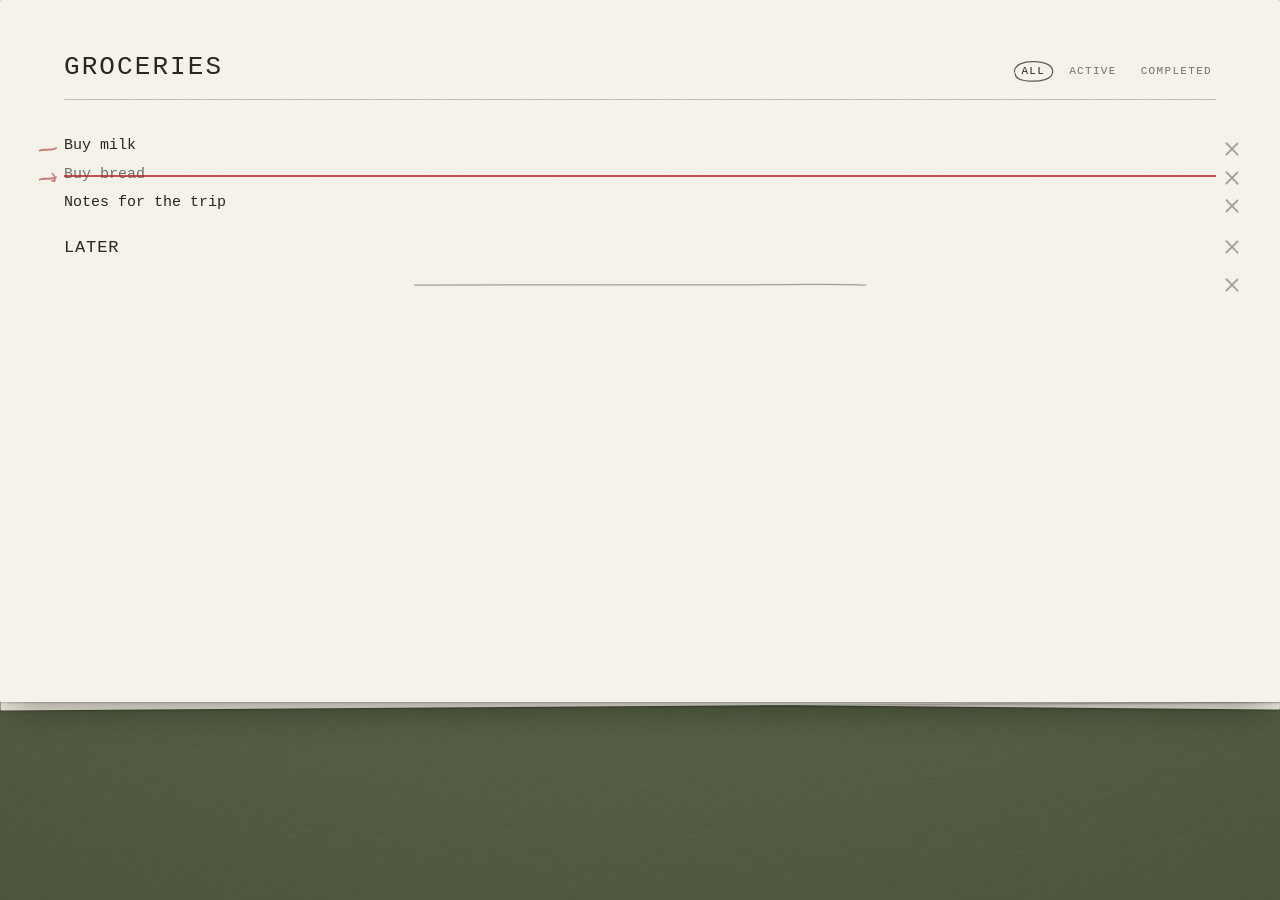
Scenario: Sheet › filters only task lines; notes and headings stay on the sheet
Click the tab "Active".
click(1093, 71)  # box [1065,61,1121,82]
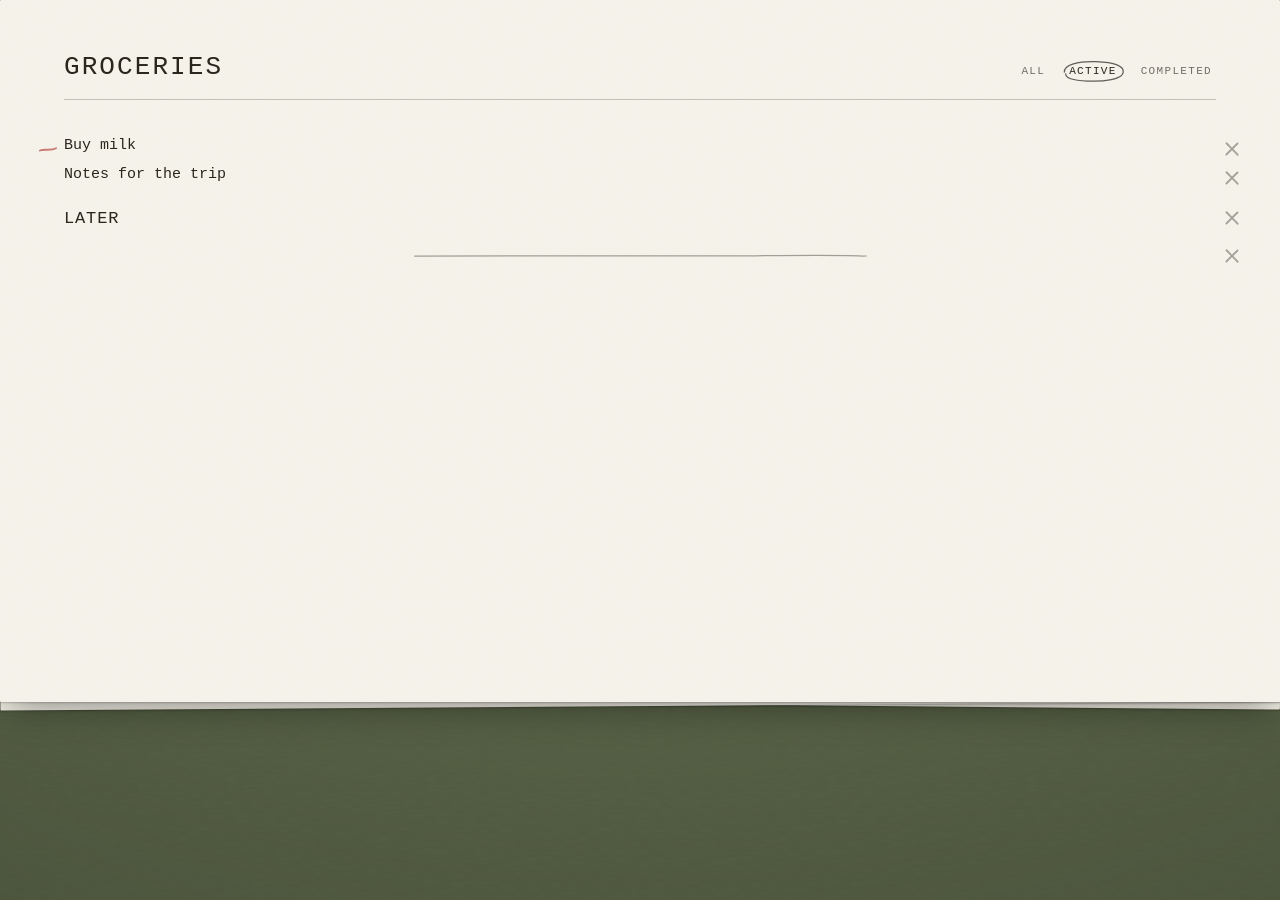
Expected: the text box "Buy milk" is shown, [64,137,136,154]
Now the text box "Buy bread" is gone
Click the tab "Completed".
click(1176, 71)  # box [1137,61,1216,82]
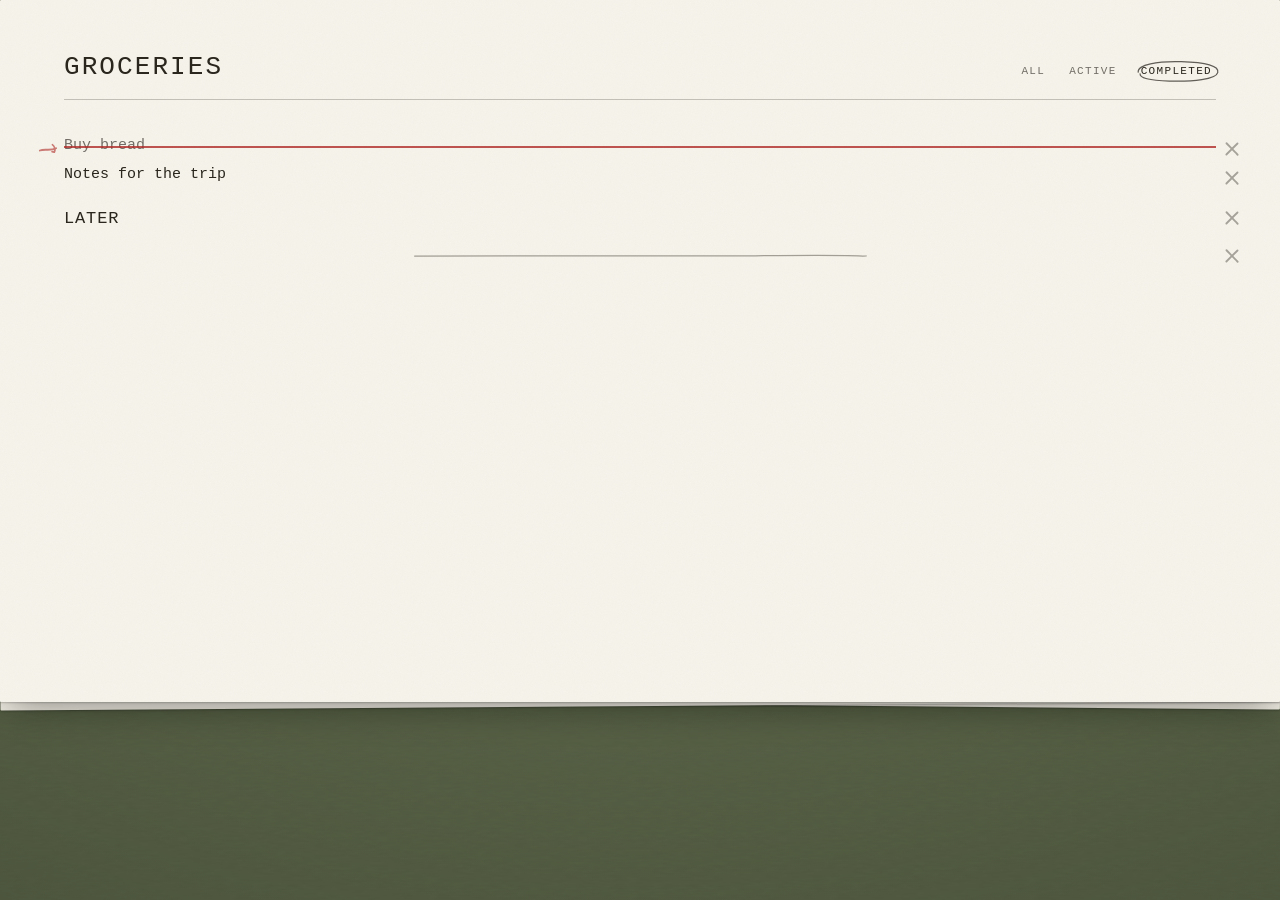
Now the text box "Buy milk" is gone
Now the text box "Buy bread" is shown, box [64,137,145,154]
